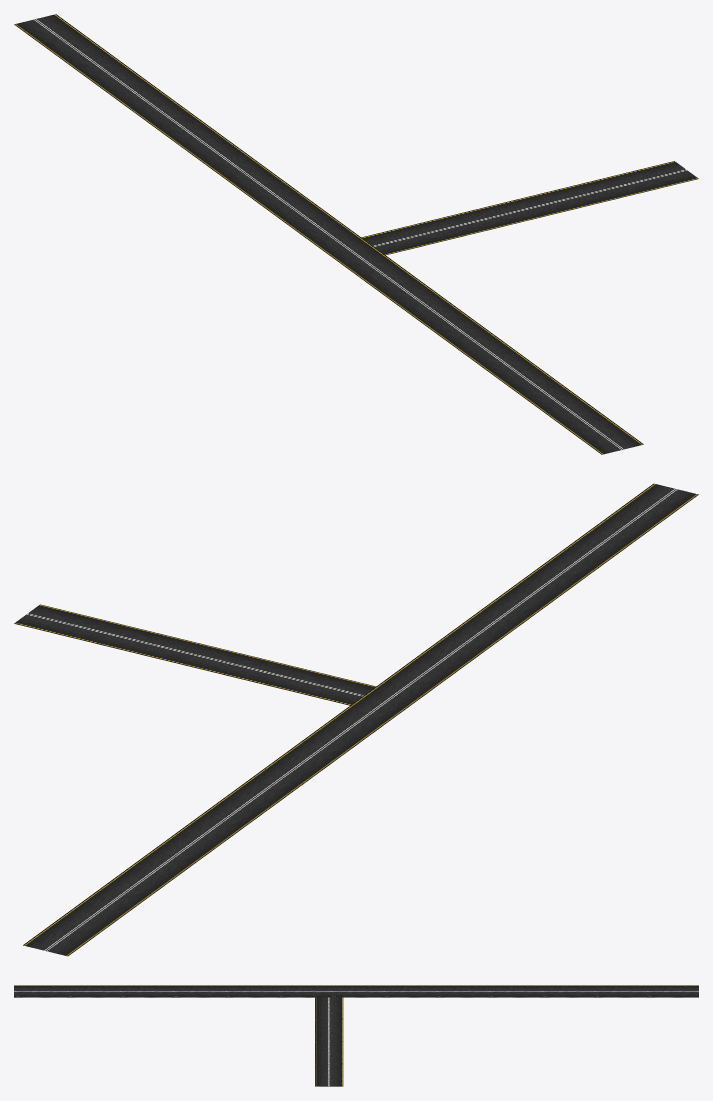
The model's file is road.fbx.
The picture shows the model from 3 angles, top to bottom: view 1: azimuth 30°, elevation 25°; view 2: azimuth 150°, elevation 25°; view 3: azimuth 270°, elevation 25°; orthographic projection. The views are drawn at different scales.
Visible parts, largest first — view 1: ROAD7, ROAD15, ROAD8, ROAD9, ROAD5, ROAD13, ROAD1, ROAD14, ROAD, ROAD3, ROAD4, ROAD6 (+5 smaller); view 2: ROAD7, ROAD9, ROAD15, ROAD8, ROAD11, ROAD10, ROAD14, ROAD, ROAD1, ROAD2, ROAD3, ROAD5 (+5 smaller); view 3: ROAD3, ROAD6, ROAD12, ROAD16, ROAD, ROAD1, ROAD2, ROAD4, ROAD5, ROAD10, ROAD11, ROAD13 (+5 smaller).
Part boxes in pixels (x1,y1,x2,y2): ROAD7: (361,218,463,255); ROAD15: (596,161,698,197); ROAD8: (440,199,541,236); ROAD9: (518,180,619,216); ROAD5: (466,345,553,388); ROAD13: (557,411,643,454); ROAD1: (421,312,507,355); ROAD14: (285,212,372,255); ROAD: (240,179,326,222); ROAD3: (376,279,462,322); ROAD4: (150,113,236,156); ROAD6: (511,378,598,421); ROAD7: (266,666,375,705); ROAD9: (98,625,207,664); ROAD15: (14,604,123,643); ROAD8: (182,645,291,684); ROAD11: (23,910,115,956); ROAD10: (120,839,213,885); ROAD14: (314,696,407,743); ROAD: (266,732,358,778); ROAD1: (460,590,552,636); ROAD2: (363,661,455,707); ROAD3: (411,625,504,671); ROAD5: (508,554,601,600); ROAD3: (224,985,277,997); ROAD6: (66,985,119,997); ROAD12: (593,985,646,997); ROAD16: (435,985,488,997); ROAD: (383,985,435,997); ROAD1: (172,985,224,997); ROAD2: (277,985,329,997); ROAD4: (488,985,540,997); ROAD5: (119,985,171,997); ROAD10: (541,985,593,997); ROAD11: (646,985,698,997); ROAD13: (14,985,66,997).
Bounding box in the file's own units: 10163 × 4.53 × 29107.
1 material, 1 textured.
